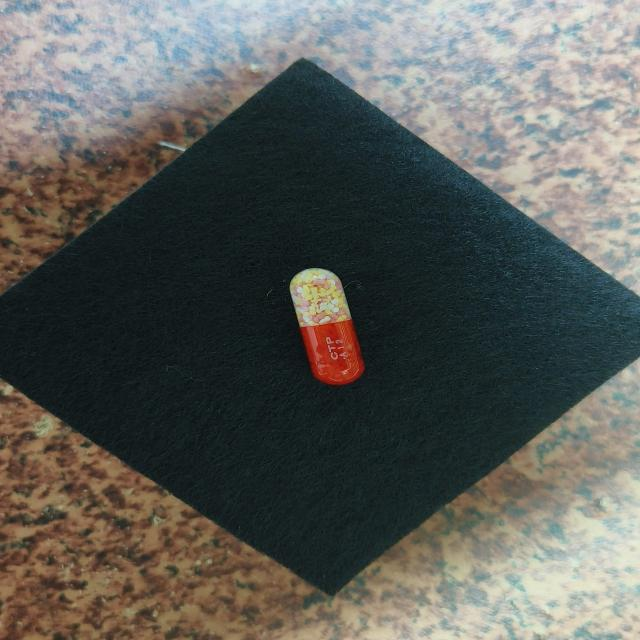Intact Capsule: (290, 268, 365, 385)
